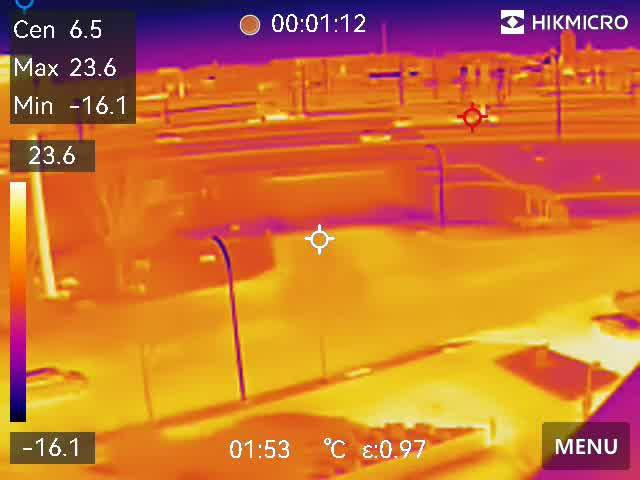heavyTruck: (163, 106, 290, 129)
smallCar: (18, 368, 102, 398), (591, 308, 640, 341)
vehicle: (393, 103, 503, 130), (359, 126, 393, 146), (151, 131, 184, 149)
